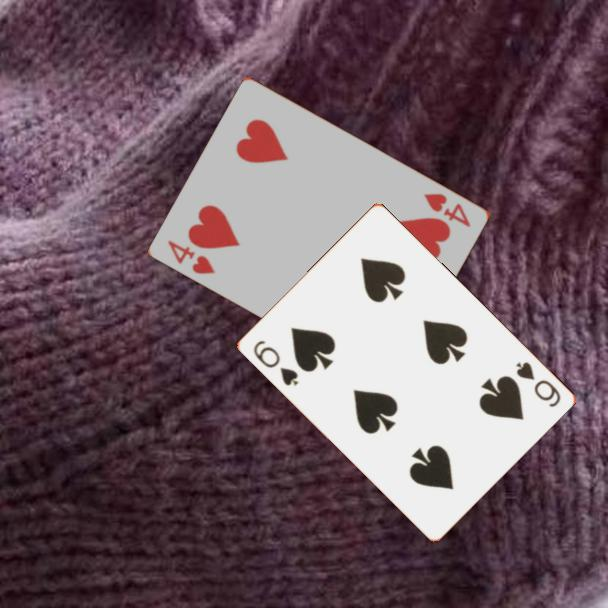h04: (420, 189, 474, 230), (165, 236, 219, 277)
s06: (249, 337, 301, 389), (512, 358, 563, 410)
